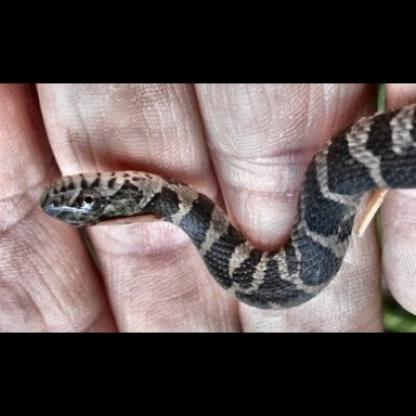Snake: (13, 107, 414, 322)
